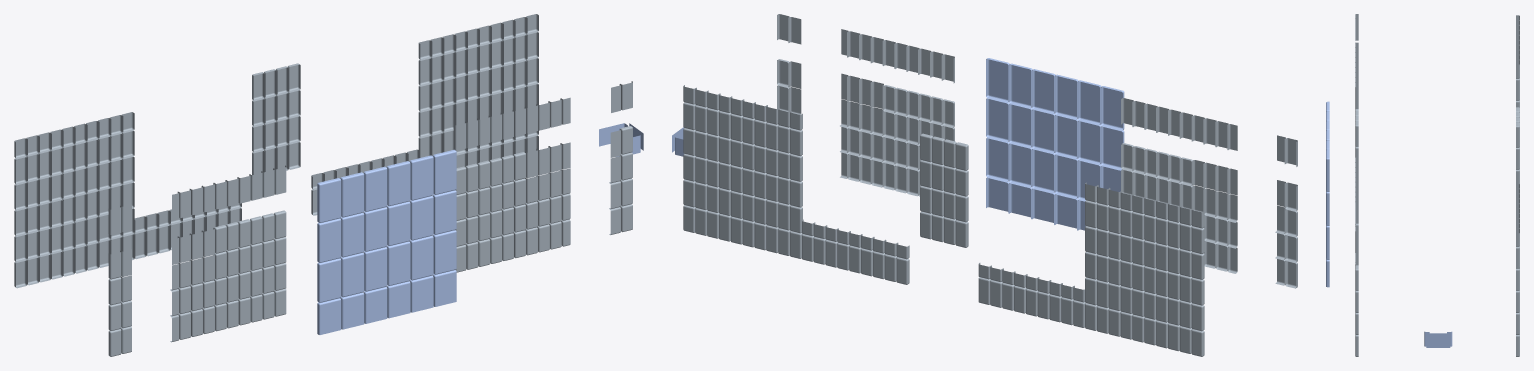
File: aiuplitka.glb
3 renders of one model, left to right at view 1: azimuth 30°, elevation 25°; view 2: azimuth 150°, elevation 25°; view 3: azimuth 270°, elevation 25°, orthographic. The views are drawn at different scales.
Parts seen in each view (by area): view 1: Cube.116, Cube.128, Cube.122, Cube.117, Cube.118, Cube.119, Cube.120, Cube.121, Cube.123, Cube.125, Cube.127, Cube.130 (+12 smaller); view 2: Cube.117, Cube.118, Cube.123, Cube.124, Cube.130, Cube.119, Cube.121, Cube.120, Cube.126, Cube.133, Cube.125, Cube.127 (+9 smaller); view 3: Cube.1012, Cube.121.
Part boxes in pixels (<box>): Cube.116: <box>317,178,341,222</box>; Cube.128: <box>317,258,341,302</box>; Cube.122: <box>317,218,341,262</box>; Cube.117: <box>340,172,364,217</box>; Cube.118: <box>363,166,387,211</box>; Cube.119: <box>386,161,410,206</box>; Cube.120: <box>409,155,433,200</box>; Cube.121: <box>433,149,456,194</box>; Cube.123: <box>340,212,364,257</box>; Cube.125: <box>386,201,410,245</box>; Cube.127: <box>433,190,456,234</box>; Cube.130: <box>363,247,387,291</box>; Cube.117: <box>1077,80,1101,124</box>; Cube.118: <box>1054,74,1078,119</box>; Cube.123: <box>1077,120,1101,164</box>; Cube.124: <box>1054,115,1078,158</box>; Cube.130: <box>1054,154,1078,198</box>; Cube.119: <box>1032,69,1055,113</box>; Cube.121: <box>986,58,1009,102</box>; Cube.120: <box>1009,63,1032,108</box>; Cube.126: <box>1009,103,1032,147</box>; Cube.133: <box>986,137,1009,181</box>; Cube.125: <box>1032,109,1055,153</box>; Cube.127: <box>986,98,1009,142</box>; Cube.1012: <box>1426,333,1450,347</box>; Cube.121: <box>1326,149,1329,191</box>.
Bounding box in the file's own units: 9.28 × 2.57 × 3.18.
